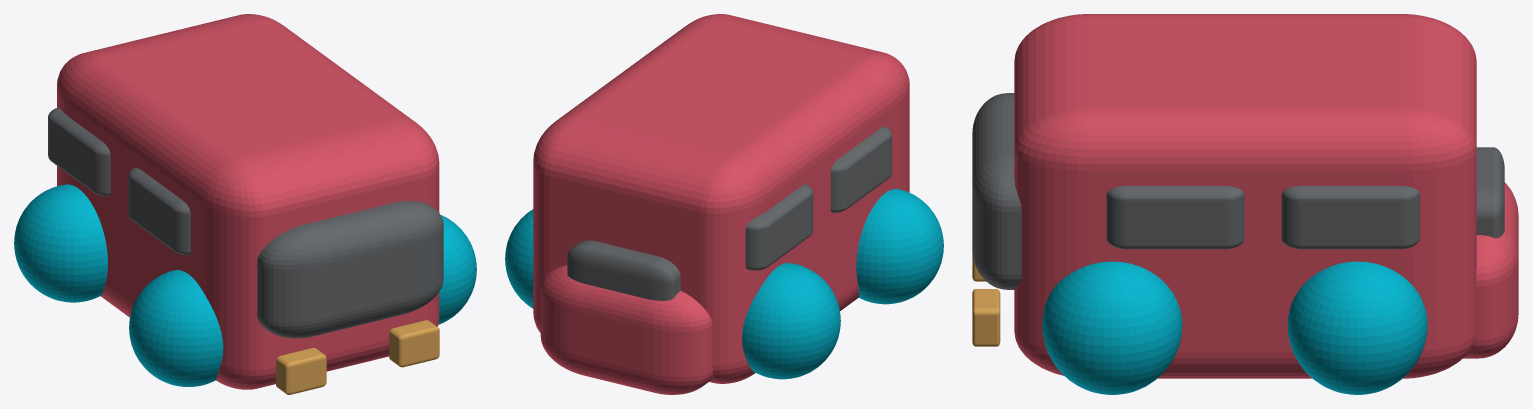
File: diver.glb
3 views of the same model, side by side, from view 1: azimuth 30°, elevation 25°; view 2: azimuth 150°, elevation 25°; view 3: azimuth 270°, elevation 25° (orthographic). The views are drawn at different scales.
Parts seen in each view (by area): view 1: Mesh_Mesh_head_geo.001_lambert2SG.001; view 2: Mesh_Mesh_head_geo.001_lambert2SG.001; view 3: Mesh_Mesh_head_geo.001_lambert2SG.001.
Boxes of the visible parts, bbox=[...] form: Mesh_Mesh_head_geo.001_lambert2SG.001: bbox=[14, 14, 476, 394]; Mesh_Mesh_head_geo.001_lambert2SG.001: bbox=[505, 14, 943, 394]; Mesh_Mesh_head_geo.001_lambert2SG.001: bbox=[972, 14, 1518, 394].
Bounding box in the file's own units: 65 × 42 × 78.
